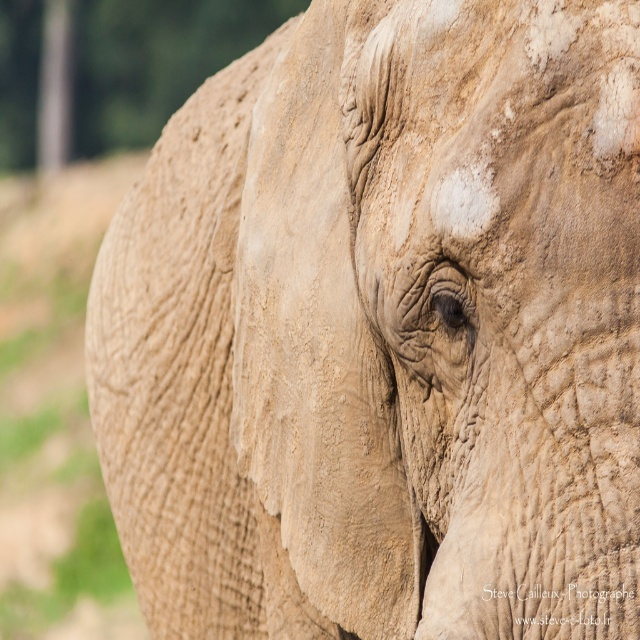Elephant: (47, 0, 627, 640)
